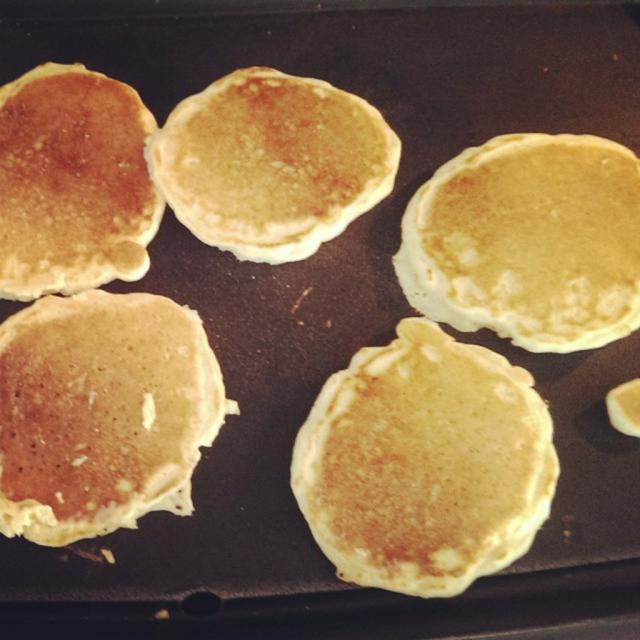Pancake: (287, 316, 554, 598), (0, 286, 246, 553), (393, 127, 639, 356), (141, 59, 403, 271), (0, 62, 171, 304)
